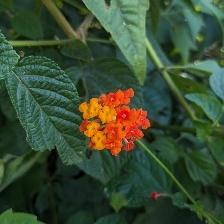common lanthana: (79, 86, 152, 156)
